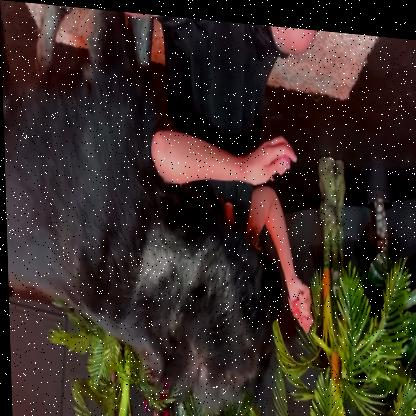streamer: (124, 9, 325, 373)
